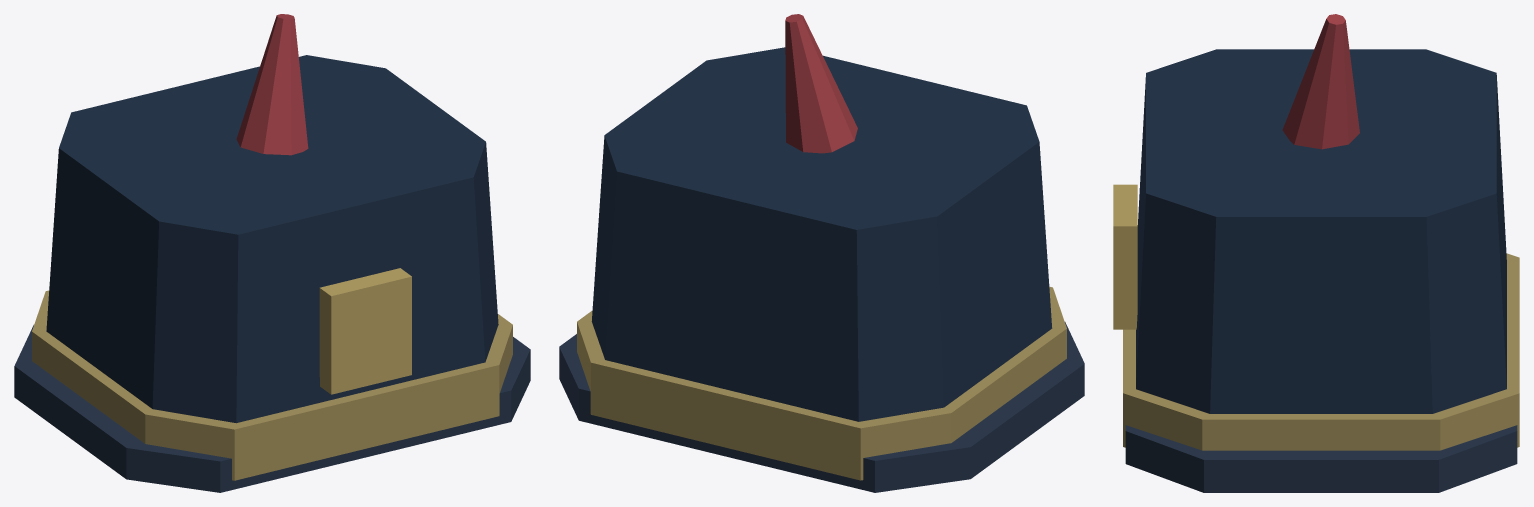
Rendered from shako.glb.
The picture shows the model from 3 angles, left to right: view 1: azimuth 30°, elevation 25°; view 2: azimuth 150°, elevation 25°; view 3: azimuth 270°, elevation 25°; orthographic projection. The views are drawn at different scales.
Visible parts, largest first — view 1: Parade Shako.002; view 2: Parade Shako.002; view 3: Parade Shako.002.
Boxes of the visible parts, left/top/right/bottom form: Parade Shako.002: left=14, top=14, right=530, bottom=492; Parade Shako.002: left=559, top=14, right=1084, bottom=492; Parade Shako.002: left=1113, top=14, right=1519, bottom=492.
Bounding box in the file's own units: 0.66 × 0.5681 × 0.5478.
